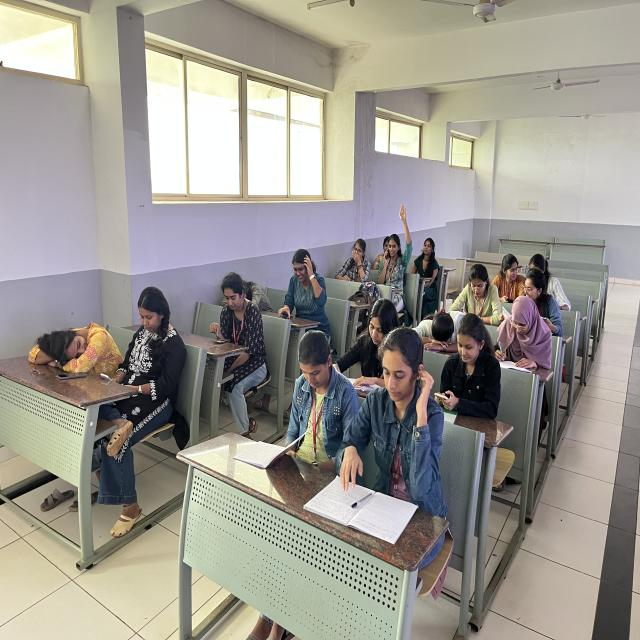Using Phone: (63, 207, 434, 640), (67, 0, 178, 203), (39, 54, 152, 208)
